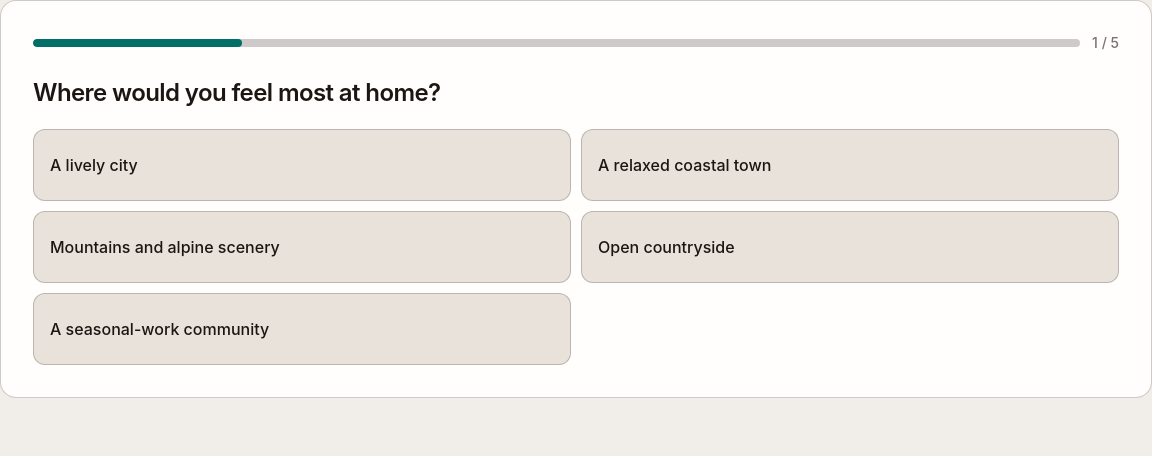
DestinationQuiz › picks Canterbury when every answer points there
Click the button "Open countryside" at (666, 247), box [581,211,1119,283]
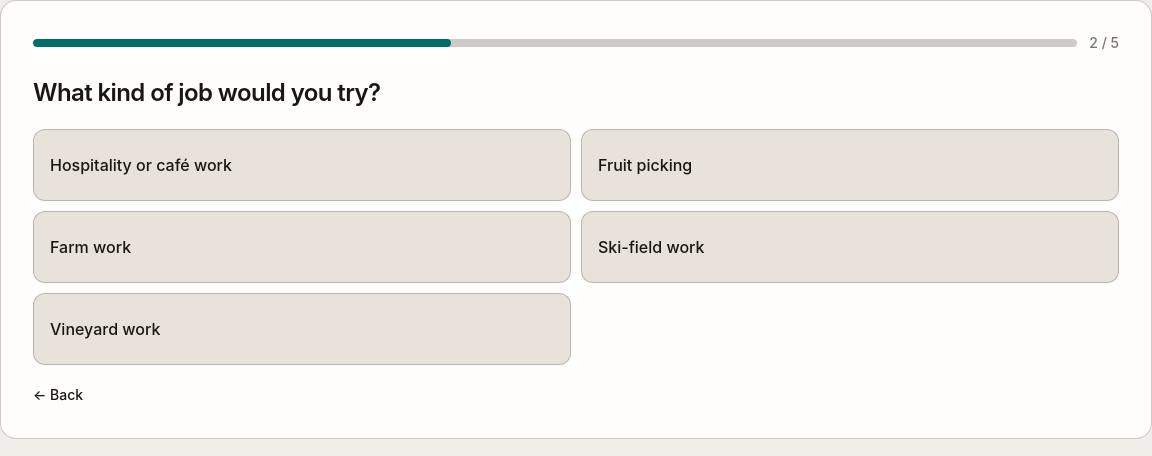
Click the button "Farm work" at (91, 247), box [33,211,571,283]
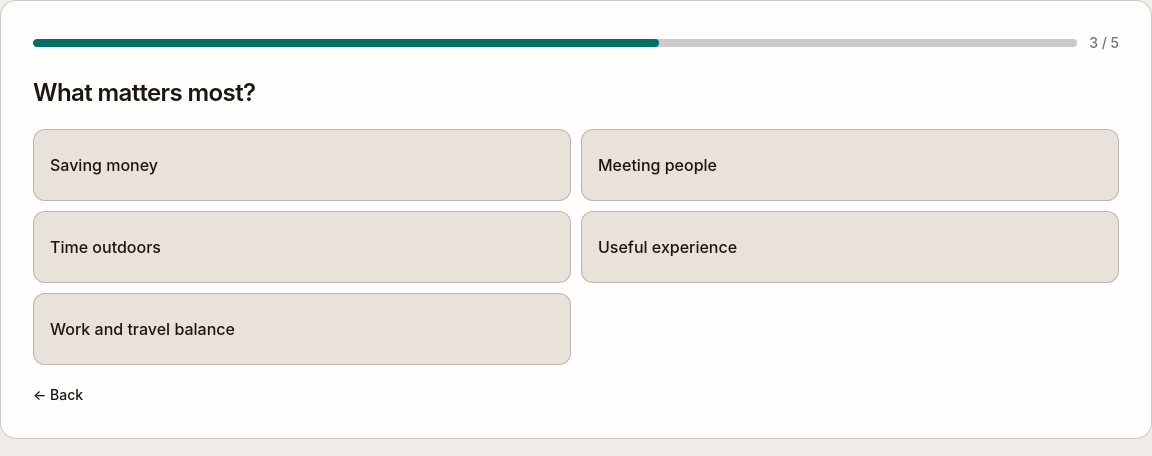
Click the button "Saving money" at (104, 165), box [33,129,571,201]
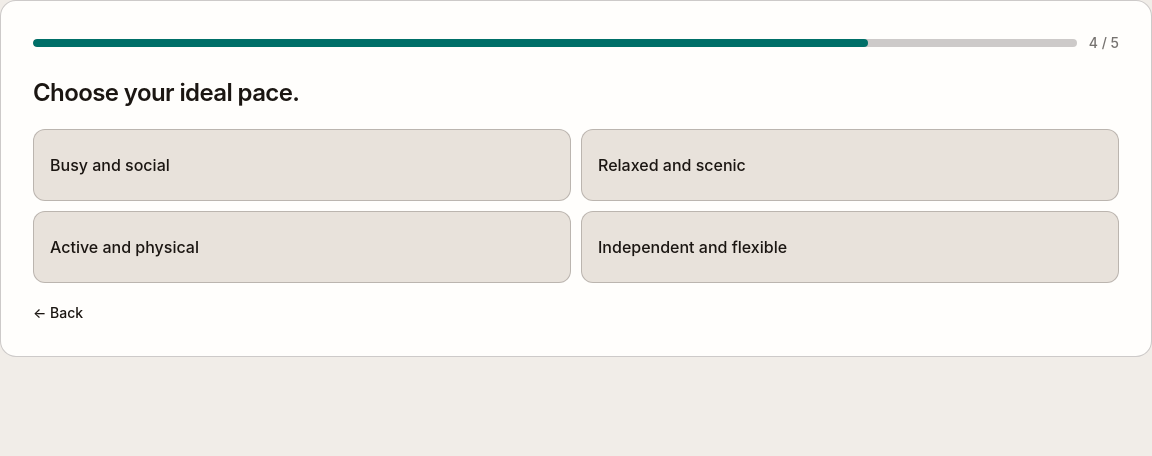
Click the button "Independent and flexible" at (693, 247), box [581,211,1119,283]
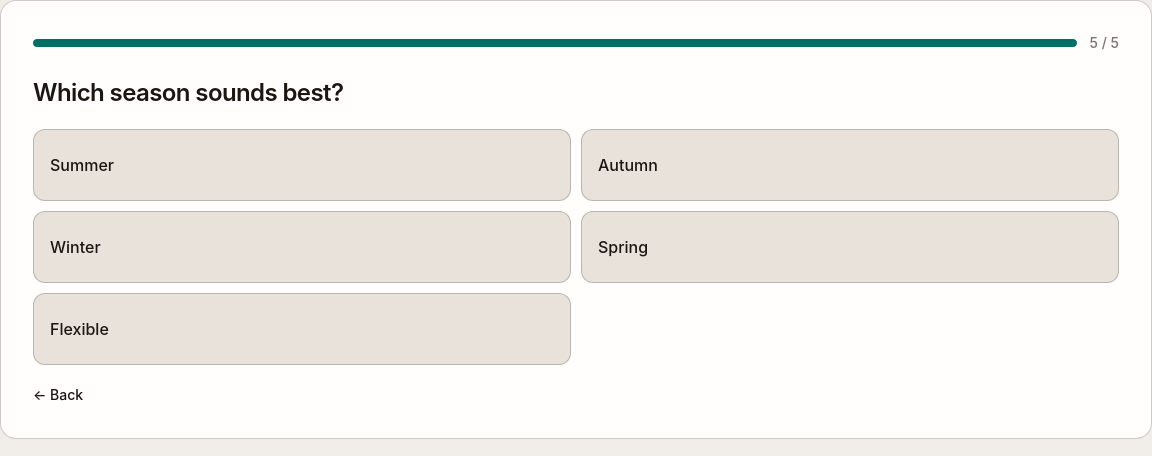
Click the button "Spring" at (623, 247), box [581,211,1119,283]
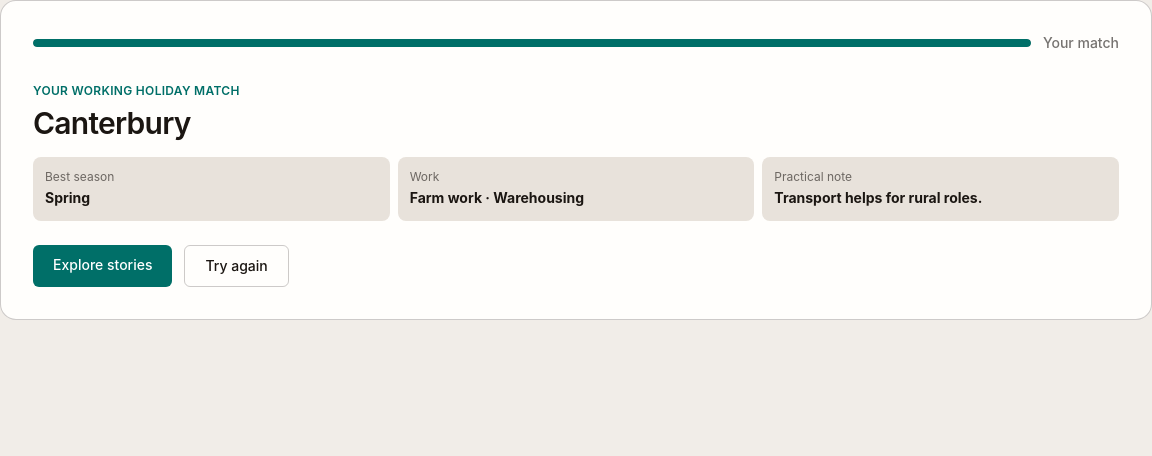
Check: the heading "Canterbury" is shown, box [33,105,191,141]
